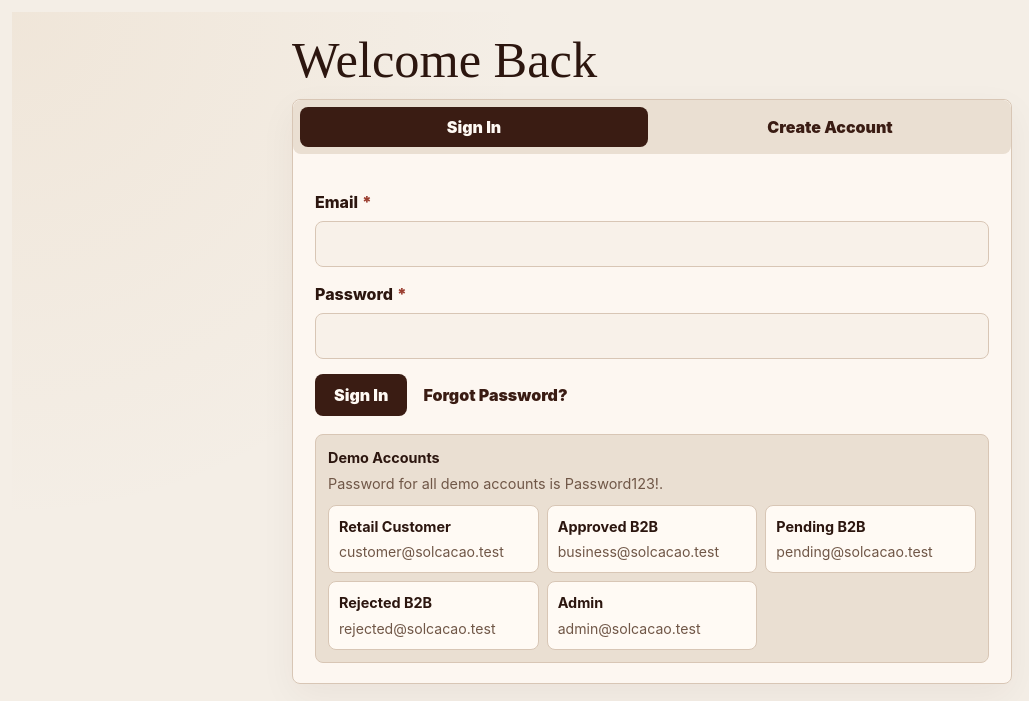
Test case: successful login navigates to the correct role account
Type "customer@solcacao.test" into the field labelled "Email". click: (652, 244)
box: [315,221,989,267]
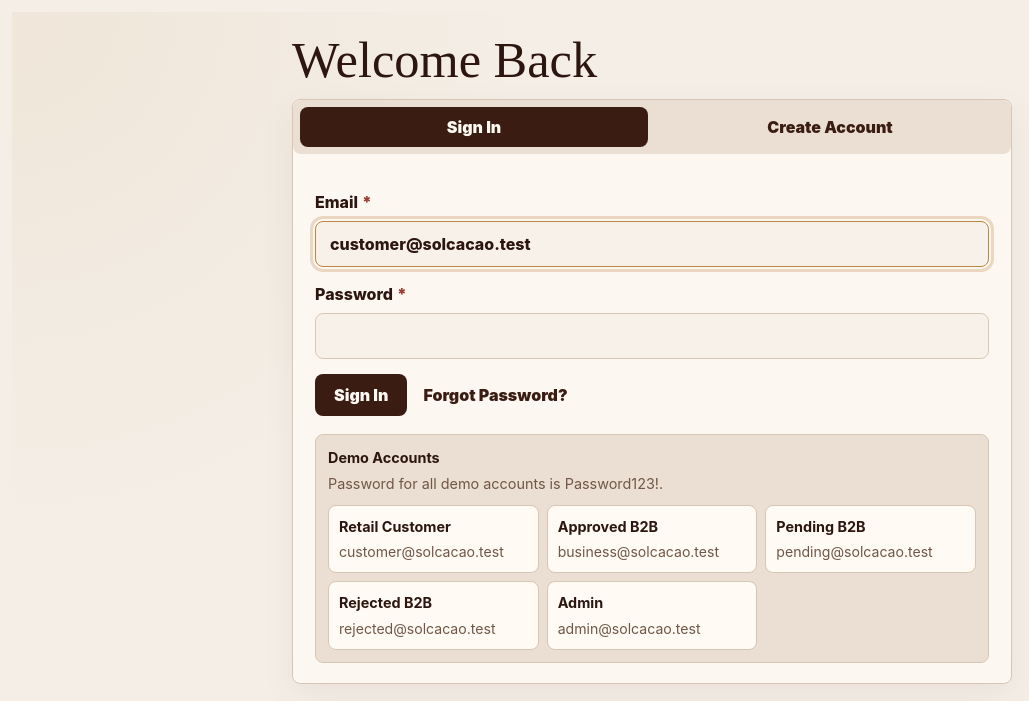
Type "Password123!" into the password field labelled "Password *". click: (652, 336)
box: [315,313,989,359]
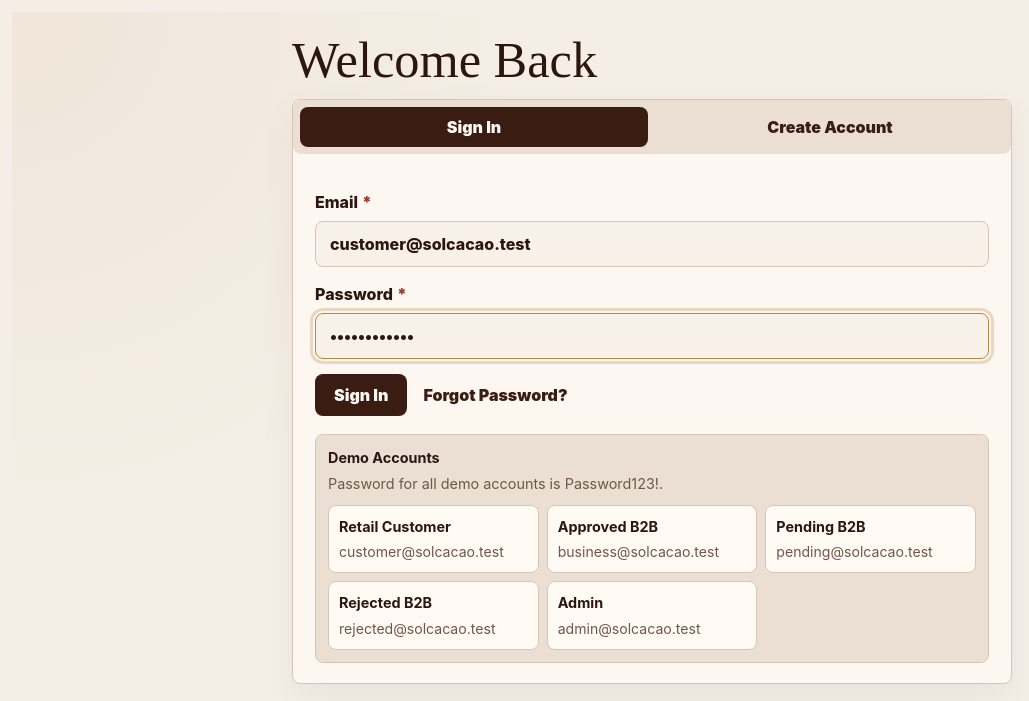
Click the button "Sign In" next to "Forgot Password?". click: (361, 395)
box: [315,374,407,416]
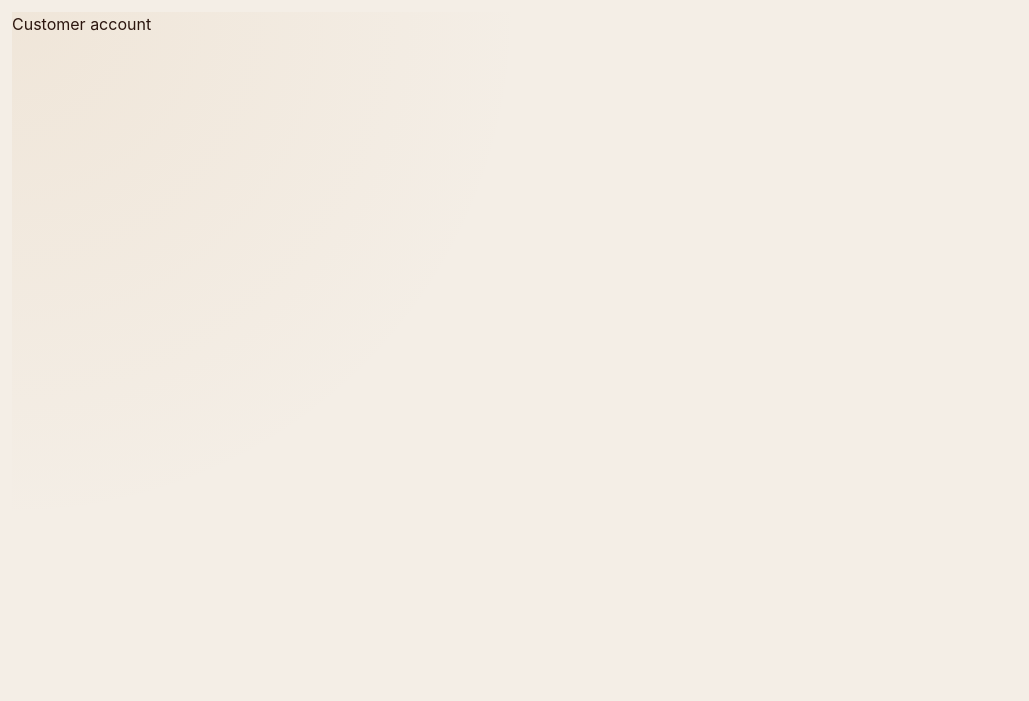
Now the heading "Customer account" is shown, box [12,14,151,34]
